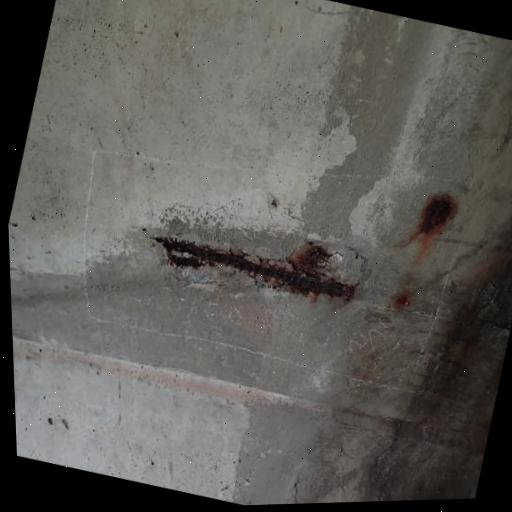exposed_rebar: (155, 236, 356, 300), (399, 194, 457, 248)
